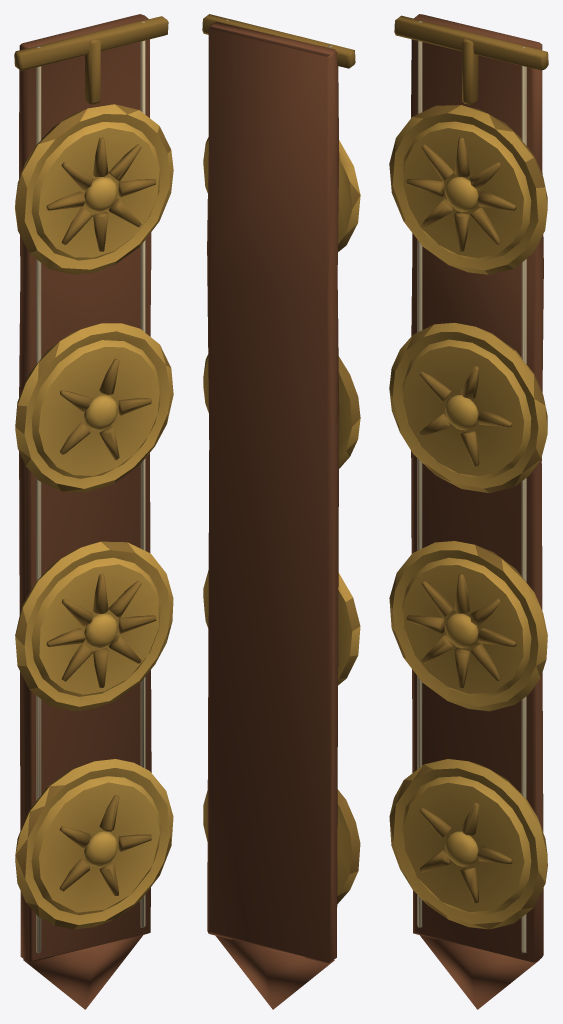
File: ember_horse_brass_lod1.glb
The picture shows the model from 3 angles, left to right: view 1: azimuth 30°, elevation 25°; view 2: azimuth 150°, elevation 25°; view 3: azimuth 330°, elevation 25°; orthographic projection.
Parts seen in each view (by area): view 1: ember_horse_brass.001; view 2: ember_horse_brass.001; view 3: ember_horse_brass.001.
Part boxes in pixels (x1,y1,x2,y2): ember_horse_brass.001: [14, 14, 173, 1009]; ember_horse_brass.001: [202, 14, 360, 1009]; ember_horse_brass.001: [389, 14, 548, 1009].
Bounding box in the file's own units: 7.6 × 44.9 × 2.51.
